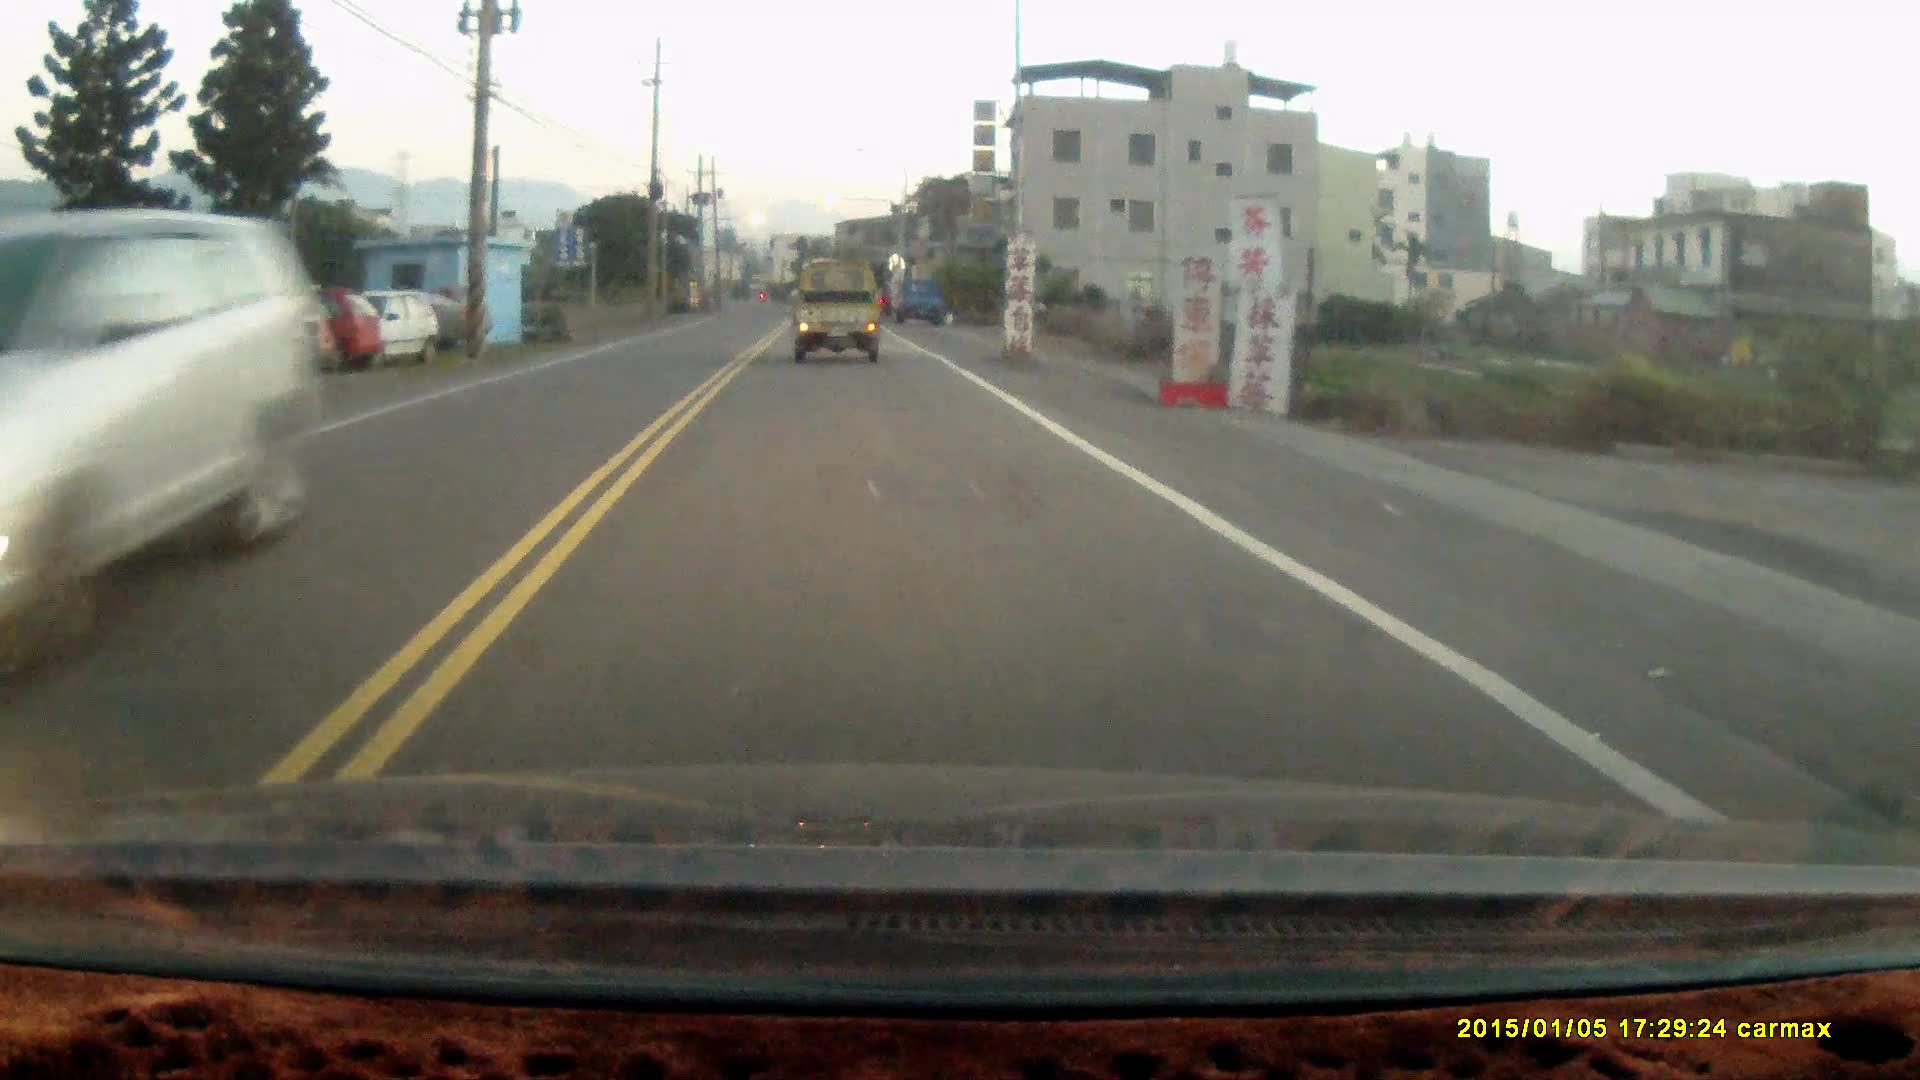vehicle: (1, 210, 281, 626), (793, 272, 884, 372), (345, 294, 440, 371), (898, 280, 951, 331)
